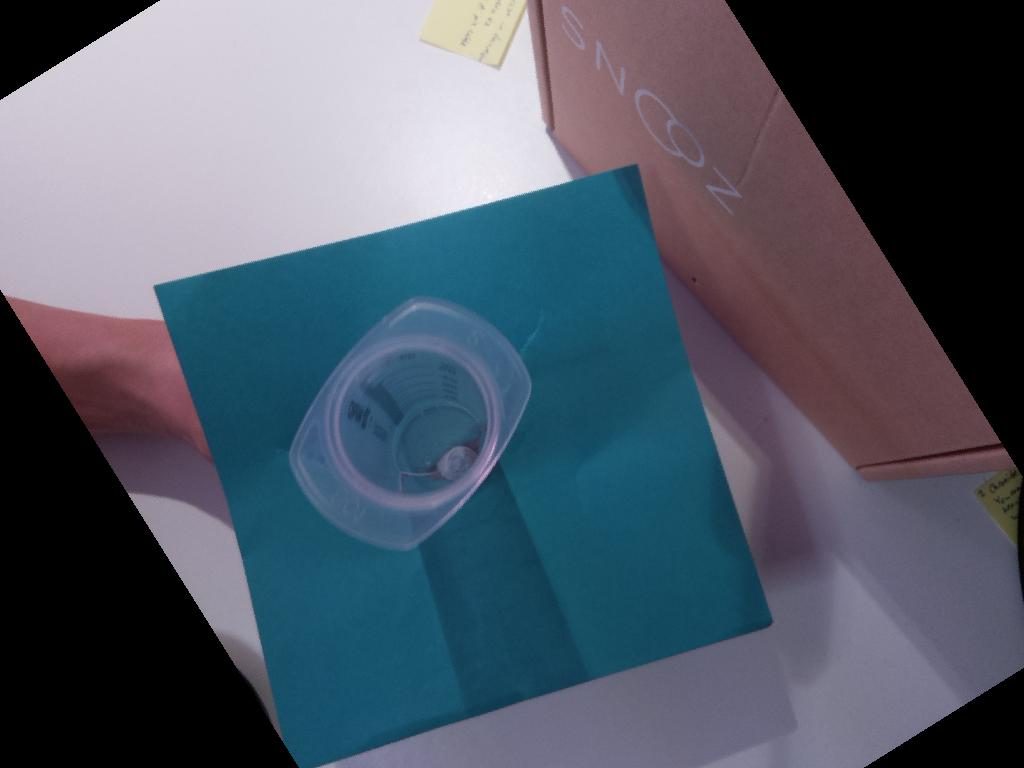clean: (284, 295, 533, 553)
